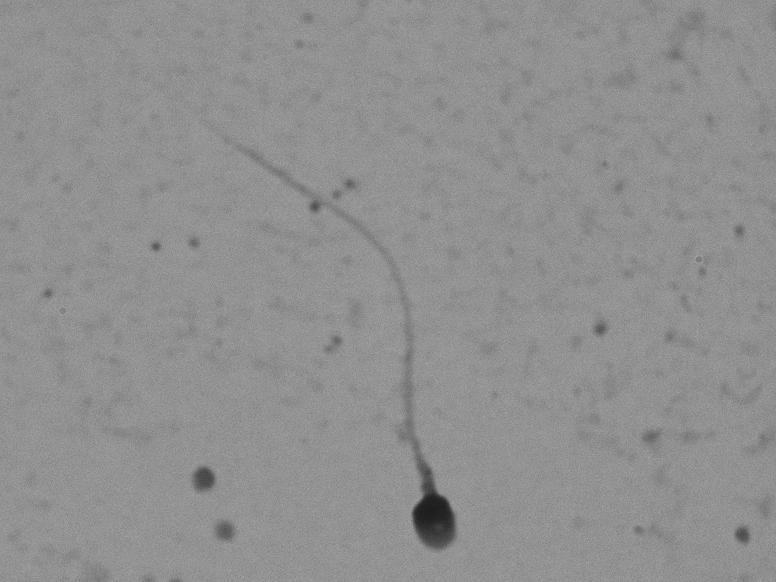Abnormal: (241, 100, 544, 557)
